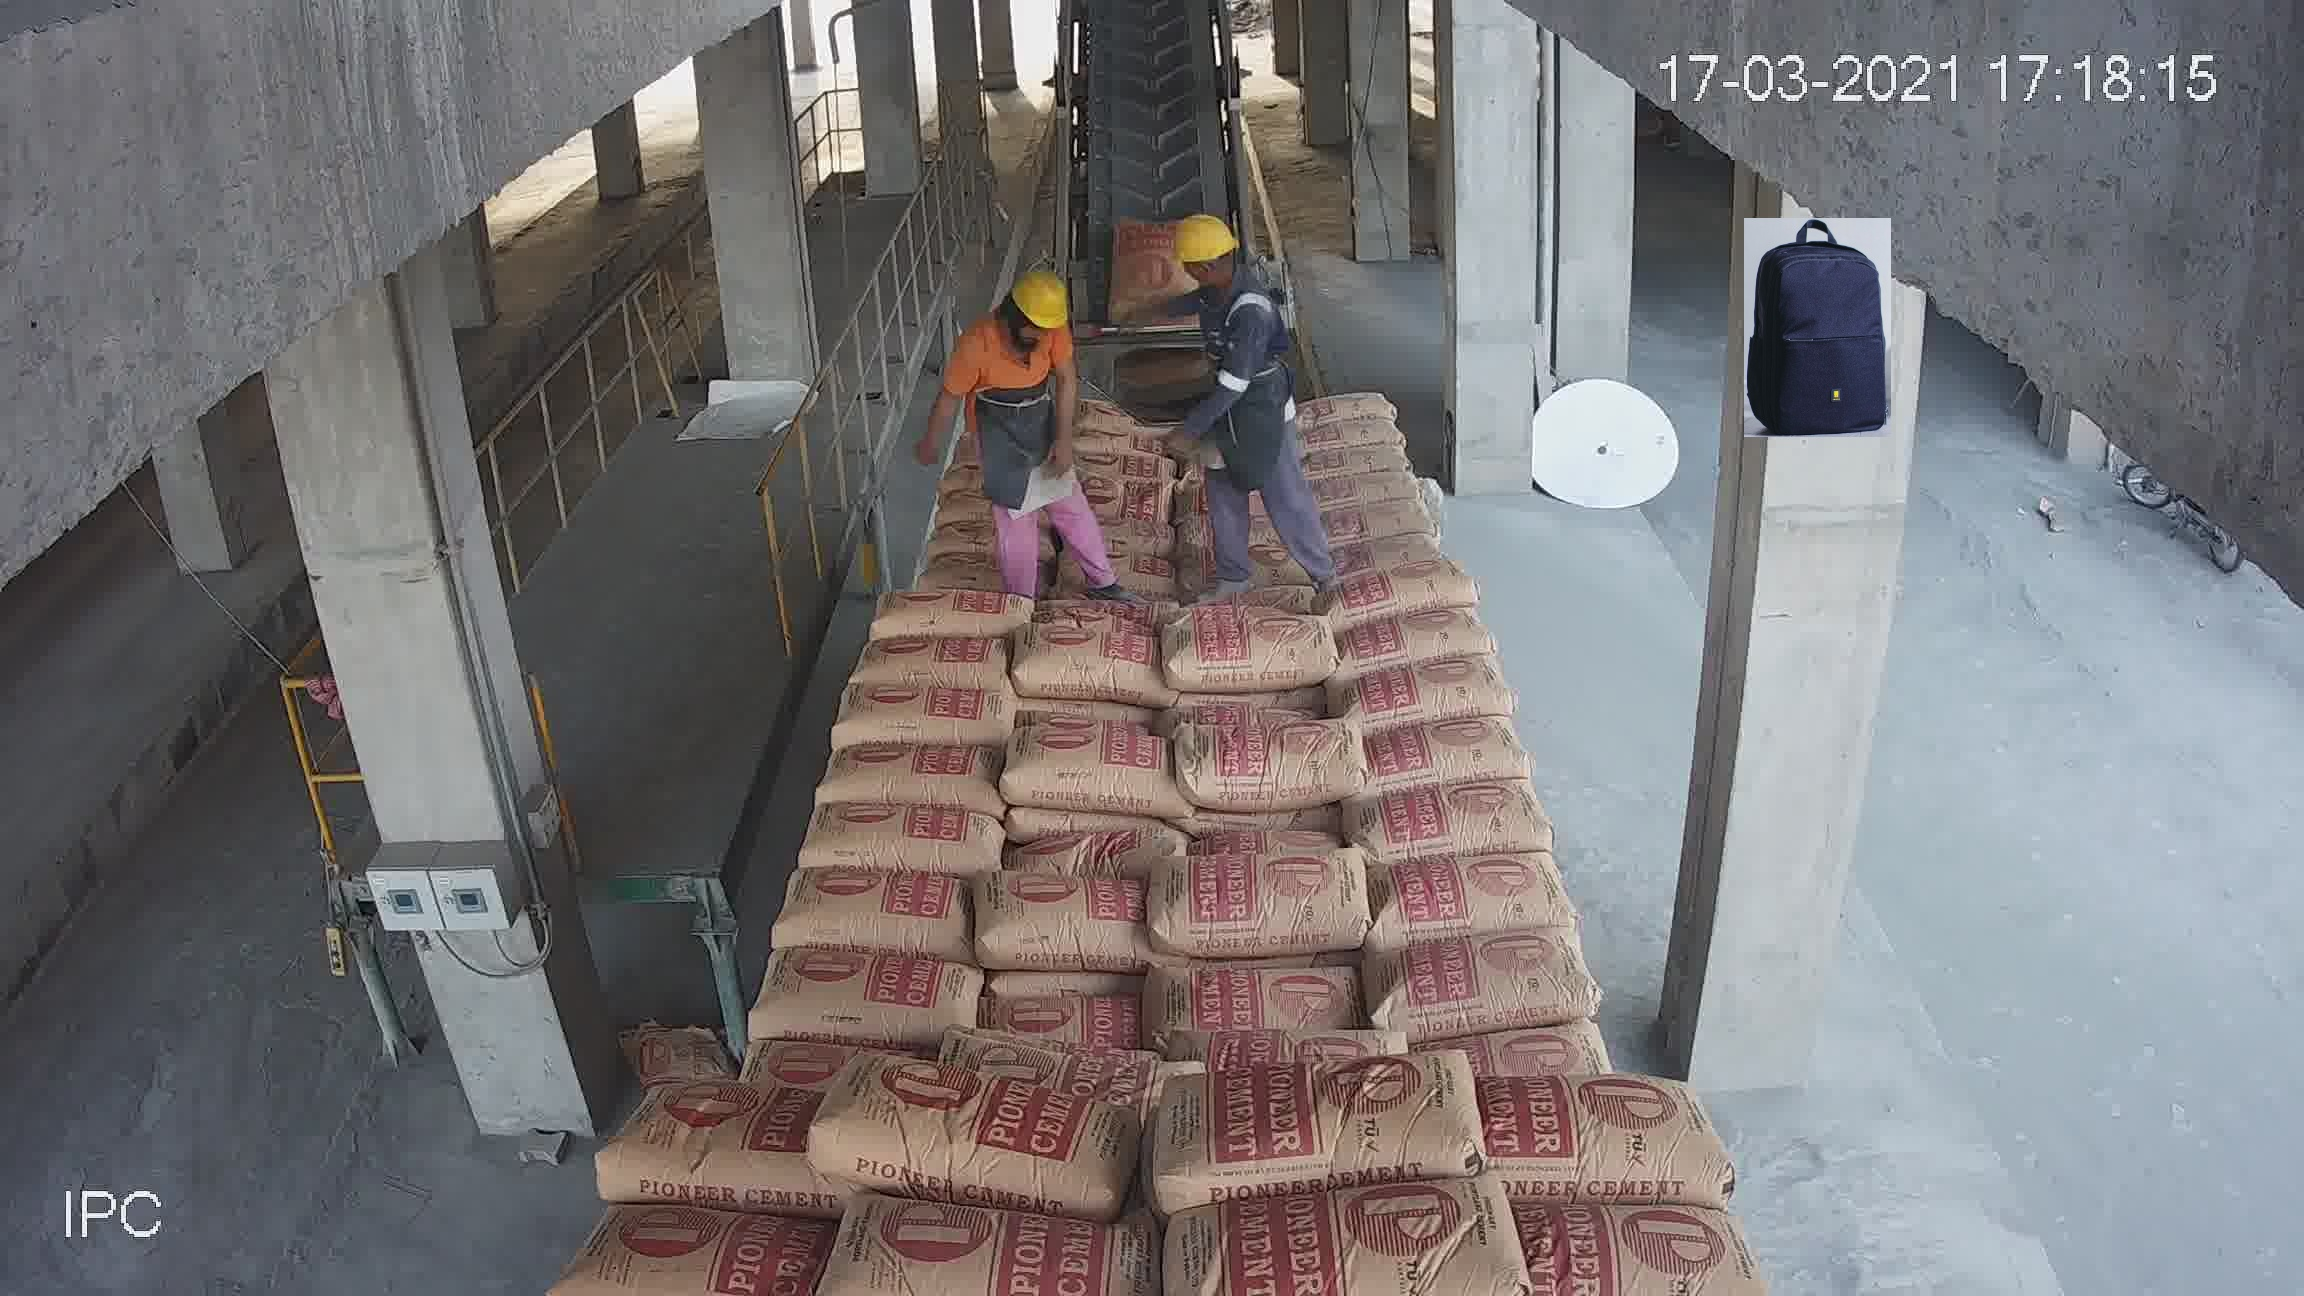bag: (1108, 218, 1185, 323)
bag_h: (1146, 1052, 1483, 1207), (801, 1049, 1152, 1196), (1478, 1068, 1715, 1195), (1157, 847, 1377, 965), (1369, 927, 1582, 1036), (593, 1084, 794, 1195), (742, 949, 1006, 1032), (767, 853, 975, 956), (1154, 937, 1358, 1041), (1166, 722, 1367, 823), (923, 1016, 1147, 1105), (791, 791, 1017, 878), (972, 885, 1144, 986), (1374, 847, 1575, 930), (1160, 597, 1328, 695), (1008, 718, 1174, 812), (1364, 777, 1546, 859), (1355, 718, 1529, 799), (1348, 642, 1503, 731), (809, 745, 991, 820), (1003, 614, 1157, 701), (1000, 810, 1161, 892), (842, 677, 1002, 756), (1343, 601, 1495, 680), (987, 983, 1147, 1055), (842, 631, 1025, 693), (853, 581, 1033, 635), (1328, 559, 1473, 611), (1294, 464, 1431, 517), (1298, 430, 1423, 483), (1323, 524, 1435, 581), (1272, 377, 1396, 427), (1294, 411, 1423, 459), (1313, 508, 1449, 549)
belt: (1051, 28, 1256, 389)
